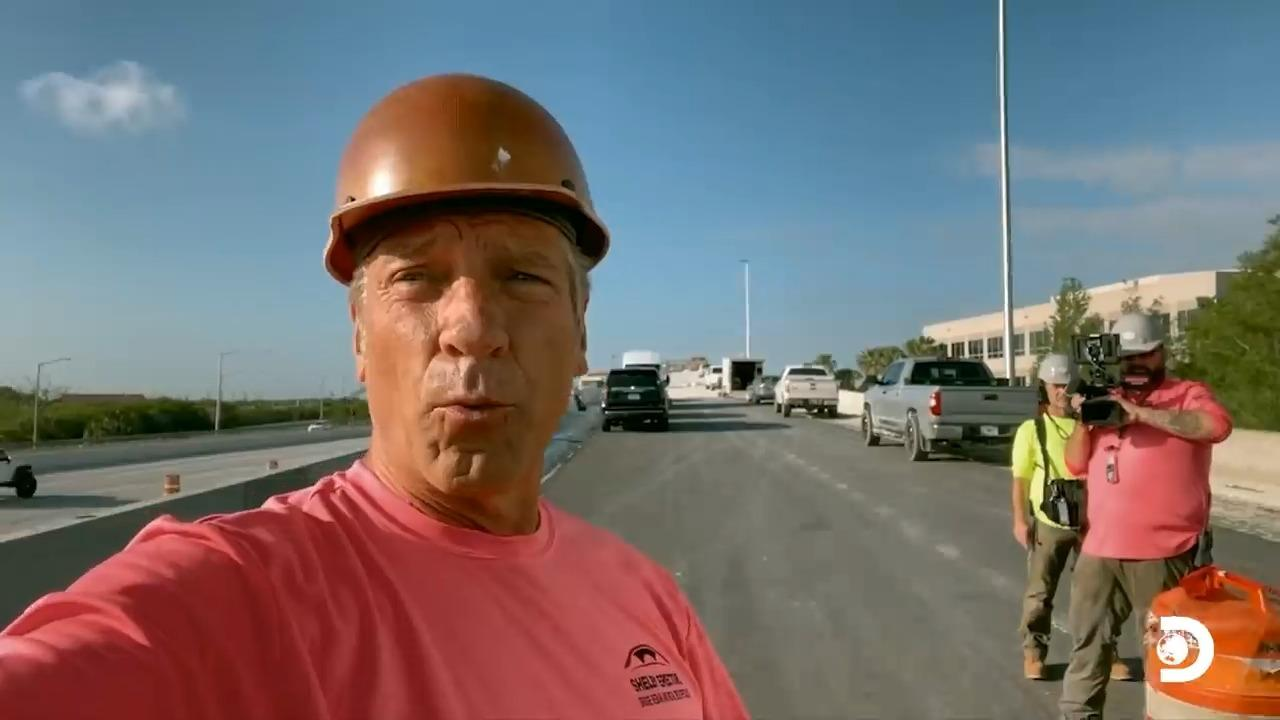Helmet: (322, 71, 610, 286), (1109, 311, 1165, 357), (1036, 353, 1074, 385)
Person: (0, 71, 752, 719), (1057, 311, 1232, 718), (1010, 353, 1132, 681)
Safety Boot: (1104, 651, 1137, 689), (1024, 651, 1054, 690)
bare-arms: (1011, 509, 1045, 551), (1106, 387, 1138, 430)
no-vest: (188, 536, 631, 720), (1104, 404, 1204, 539), (1017, 430, 1087, 514)
